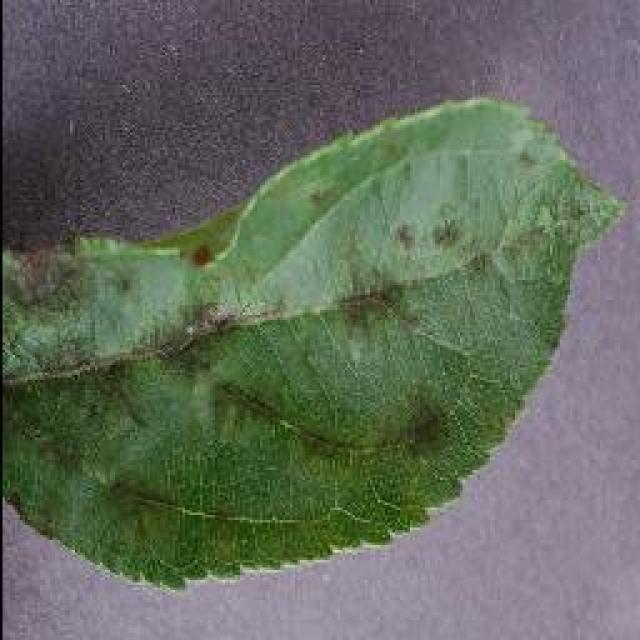apple scab disease: (0, 92, 628, 592)
